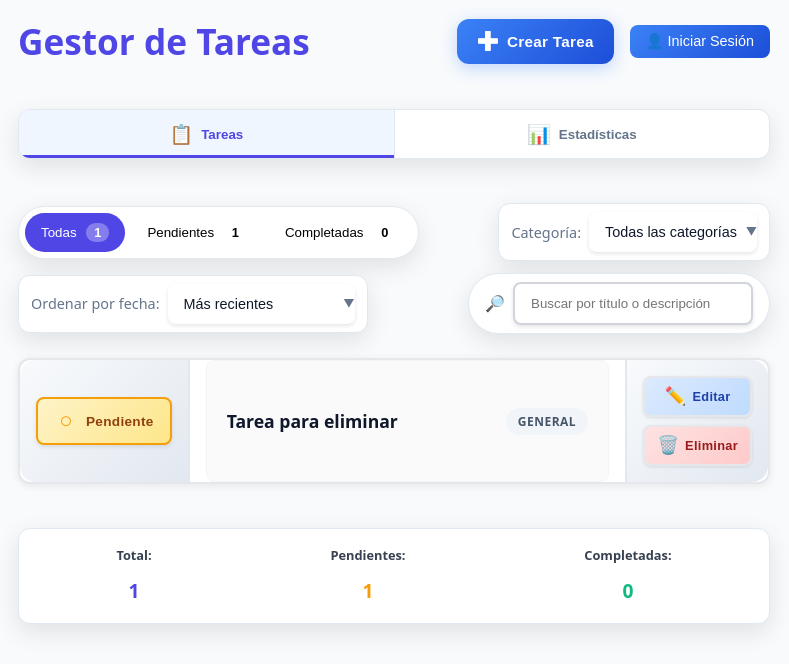
Gestor de Tareas - App Principal › 5. Eliminar Tarea › debe mostrar modal de confirmación al hacer clic en eliminar
# Hacer clic en eliminar
Click the button with aria-label "eliminar tarea". click: point(698, 446)
box: [643,425,752,466]
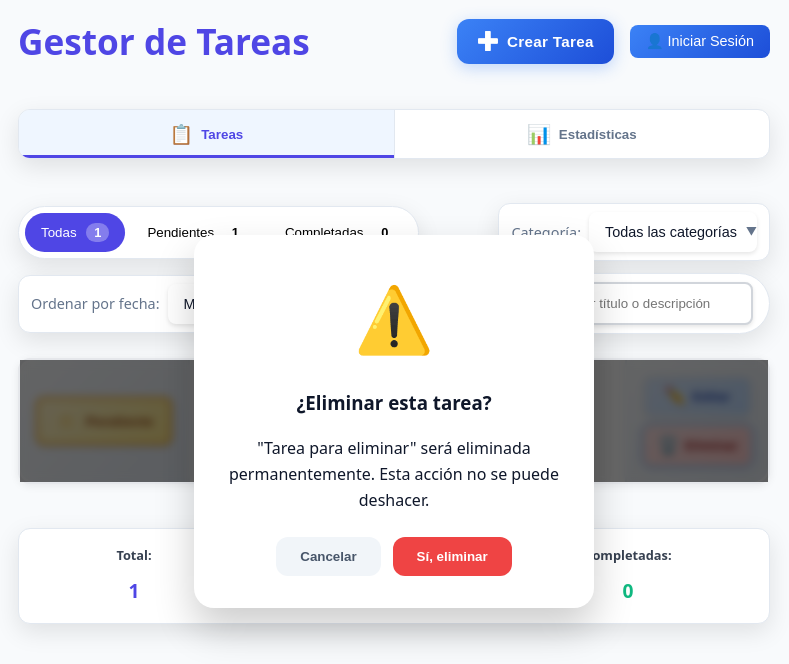
Expected: the heading "¿Eliminar esta tarea?" is shown, [296,390,492,415]
Expected: the text "será eliminada permanentemente" is shown, [229,437,559,510]
Expected: the button "Cancelar" is shown, [276,537,381,576]
